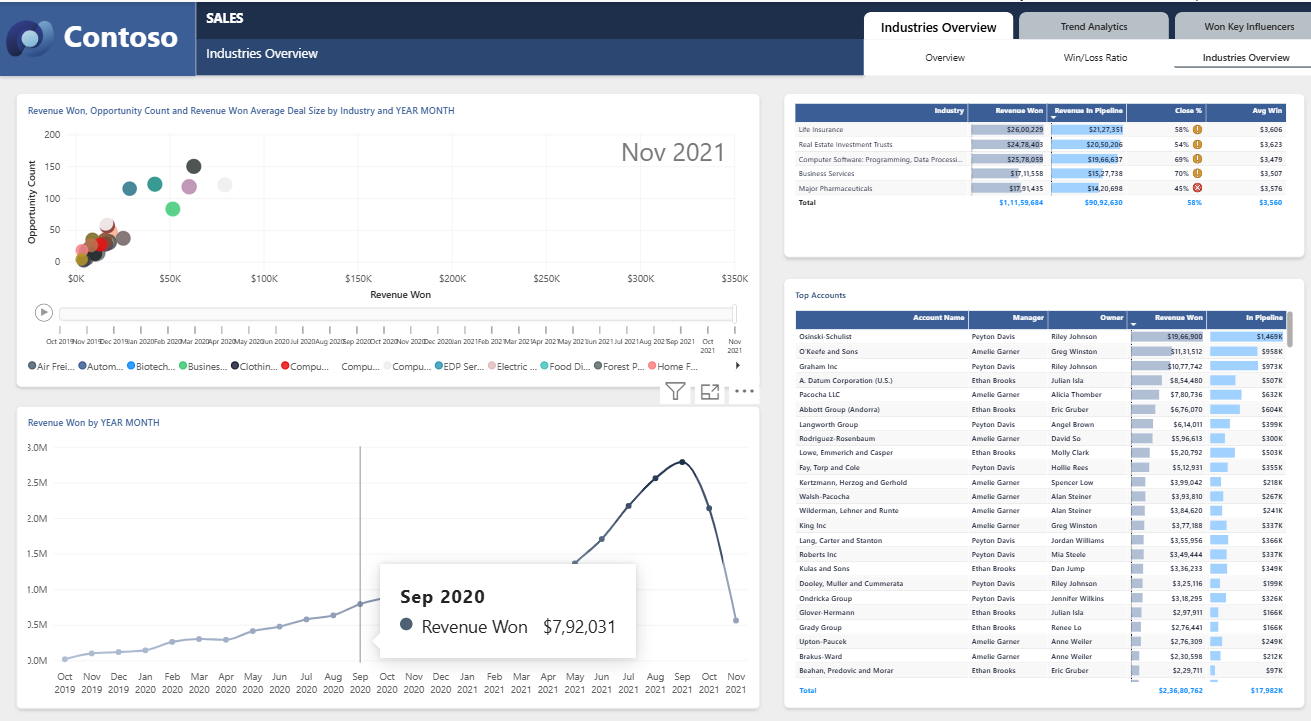

What the dashboard file says about the page in this screenshot:
{"tool":"powerbi","page":{"name":"Industries Overview","canvas":[1920,1080],"ordinal":2},"visuals":[{"type":"shape","title":"Horizontal Shape","box":[283.4,53.1,967.2,54],"z":0,"group":"g1"},{"type":"shape","title":"Horizontal Shape","box":[283.4,0.3,1633.9,53.8],"z":2000,"group":"g1"},{"type":"group","id":"g1","title":"Header","box":[0,0,1918,107.6],"z":2500},{"type":"pageNavigator","box":[1250,15,667.5,40],"z":2500,"group":"g1"},{"type":"shape","title":"Horizontal Shape","box":[1249.9,54,668,52.1],"z":2750,"group":"g1"},{"type":"shape","title":"Horizontal Shape","box":[0,0,283.5,107.6],"z":3000,"group":"g1"},{"type":"pivotTable","title":"Sales by Industry","fields":{"Rows":["Industries.Industry"],"Values":["Opportunities.Revenue Won","Opportunities.Revenue In Pipeline","Opportunities.Close %","Opportunities.Revenue Won Average Deal Size"]},"box":[1135.1,131.9,754.6,237.8],"z":3000},{"type":"pageNavigator","box":[1262.5,63.8,646.2,32.5],"z":3250,"group":"g1"},{"type":"textbox","title":"Report Title Category","box":[299,11.5,438.7,37.2],"z":4000,"group":"g1"},{"type":"tableEx","title":"Top Accounts","fields":{"Values":["Accounts.Account Name","Owners.Manager","Owners.Owner","Opportunities.Revenue Won","Opportunities.Revenue In Pipeline"]},"box":[1135.1,400,754.6,622.7],"z":4000},{"type":"textbox","title":"Report Title","box":[298.6,61.4,438.7,36.5],"z":4125,"group":"g1"},{"type":"textbox","title":"Company name","box":[93,17.3,190.3,88.6],"z":4250,"group":"g1"},{"type":"image","title":"Company Logo","box":[8.6,17.1,68.6,73.6],"z":4500,"group":"g1"},{"type":"scatterChart","fields":{"Y":["Opportunities.Opportunity Count"],"Play":["Opportunity Calendar.YEAR MONTH"],"X":["Opportunities.Revenue Won"],"Series":["Industries.Industry"],"Size":["Opportunities.Revenue Won Average Deal Size"]},"box":[23.8,131.9,1076.8,425.9],"z":5000},{"type":"lineChart","fields":{"Y":["Opportunities.Revenue Won"],"Category":["Opportunity Calendar.YEAR MONTH"]},"box":[23.8,583.8,1076.8,438.9],"z":6000}]}

Visuals, with their boxes on the page's 1920x1080 design canvas (x1, y1, x2, y2). These are canvas units, not pixel positions in the 1311x721 screenshot, which may show the page scaled, cropped or inside an application window:
"Horizontal Shape" shape: (283, 53, 1251, 107)
"Horizontal Shape" shape: (283, 0, 1917, 54)
"Header" group: (0, 0, 1918, 108)
pageNavigator: (1250, 15, 1918, 55)
"Horizontal Shape" shape: (1250, 54, 1918, 106)
"Horizontal Shape" shape: (0, 0, 284, 108)
"Sales by Industry" pivotTable: (1135, 132, 1890, 370)
pageNavigator: (1262, 64, 1909, 96)
"Report Title Category" textbox: (299, 12, 738, 49)
"Top Accounts" tableEx: (1135, 400, 1890, 1023)
"Report Title" textbox: (299, 61, 737, 98)
"Company name" textbox: (93, 17, 283, 106)
"Company Logo" image: (9, 17, 77, 91)
scatterChart - Opportunities.Opportunity Count x Opportunity Calendar.YEAR MONTH: (24, 132, 1101, 558)
lineChart - Opportunities.Revenue Won x Opportunity Calendar.YEAR MONTH: (24, 584, 1101, 1023)
